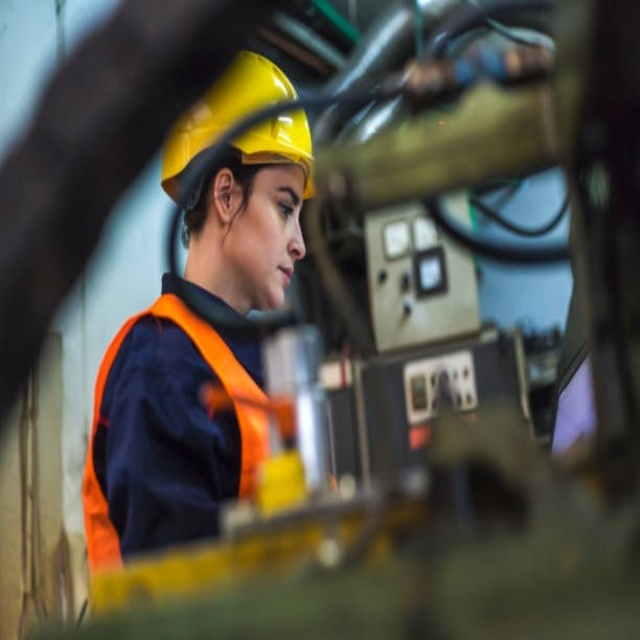Sin_gafas: (250, 176, 307, 221)
Sin_mascara: (257, 253, 301, 306)
